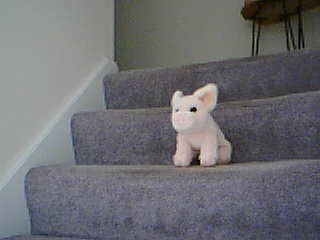piggy: (169, 82, 233, 168)
